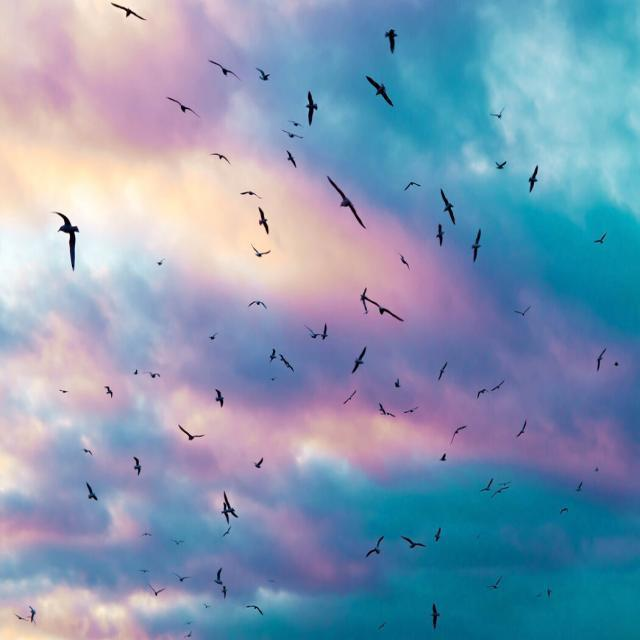bird: (50, 201, 90, 281), (362, 289, 412, 340), (324, 172, 366, 229), (374, 17, 410, 64), (158, 88, 204, 124), (361, 64, 397, 110), (108, 0, 157, 31), (213, 56, 249, 97), (396, 522, 429, 564), (176, 419, 208, 457), (363, 526, 390, 569), (389, 172, 426, 202), (524, 150, 543, 207), (587, 220, 613, 256), (242, 596, 272, 626), (590, 338, 611, 380), (482, 104, 512, 132), (438, 185, 457, 229), (486, 566, 508, 604), (346, 347, 369, 382), (254, 207, 276, 242), (245, 240, 274, 265), (306, 86, 321, 134), (208, 150, 238, 173), (252, 62, 274, 93), (146, 576, 170, 604), (430, 516, 448, 552), (470, 222, 484, 266), (83, 476, 102, 508), (397, 247, 416, 279), (512, 416, 531, 448), (212, 382, 230, 415), (511, 304, 542, 323), (206, 324, 226, 352), (450, 420, 470, 448), (492, 152, 515, 176), (238, 183, 265, 203), (430, 357, 450, 384), (429, 598, 442, 639), (478, 470, 496, 498), (486, 376, 509, 397), (249, 452, 267, 478), (280, 128, 302, 149), (172, 566, 193, 588), (476, 377, 490, 407), (248, 296, 266, 318), (132, 449, 144, 482), (102, 378, 116, 406), (558, 503, 575, 526), (211, 568, 226, 590), (149, 368, 167, 386), (287, 148, 300, 172), (172, 535, 185, 555), (139, 555, 151, 576), (290, 119, 304, 132)
